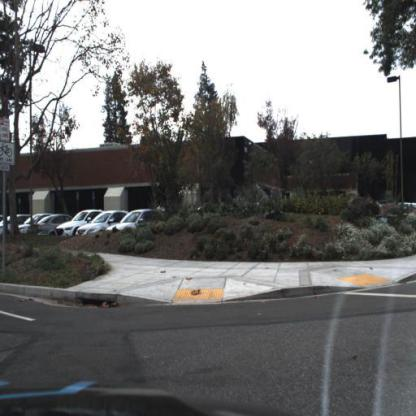car: (109, 205, 157, 238), (76, 210, 114, 239), (55, 211, 81, 239), (32, 213, 59, 237)
